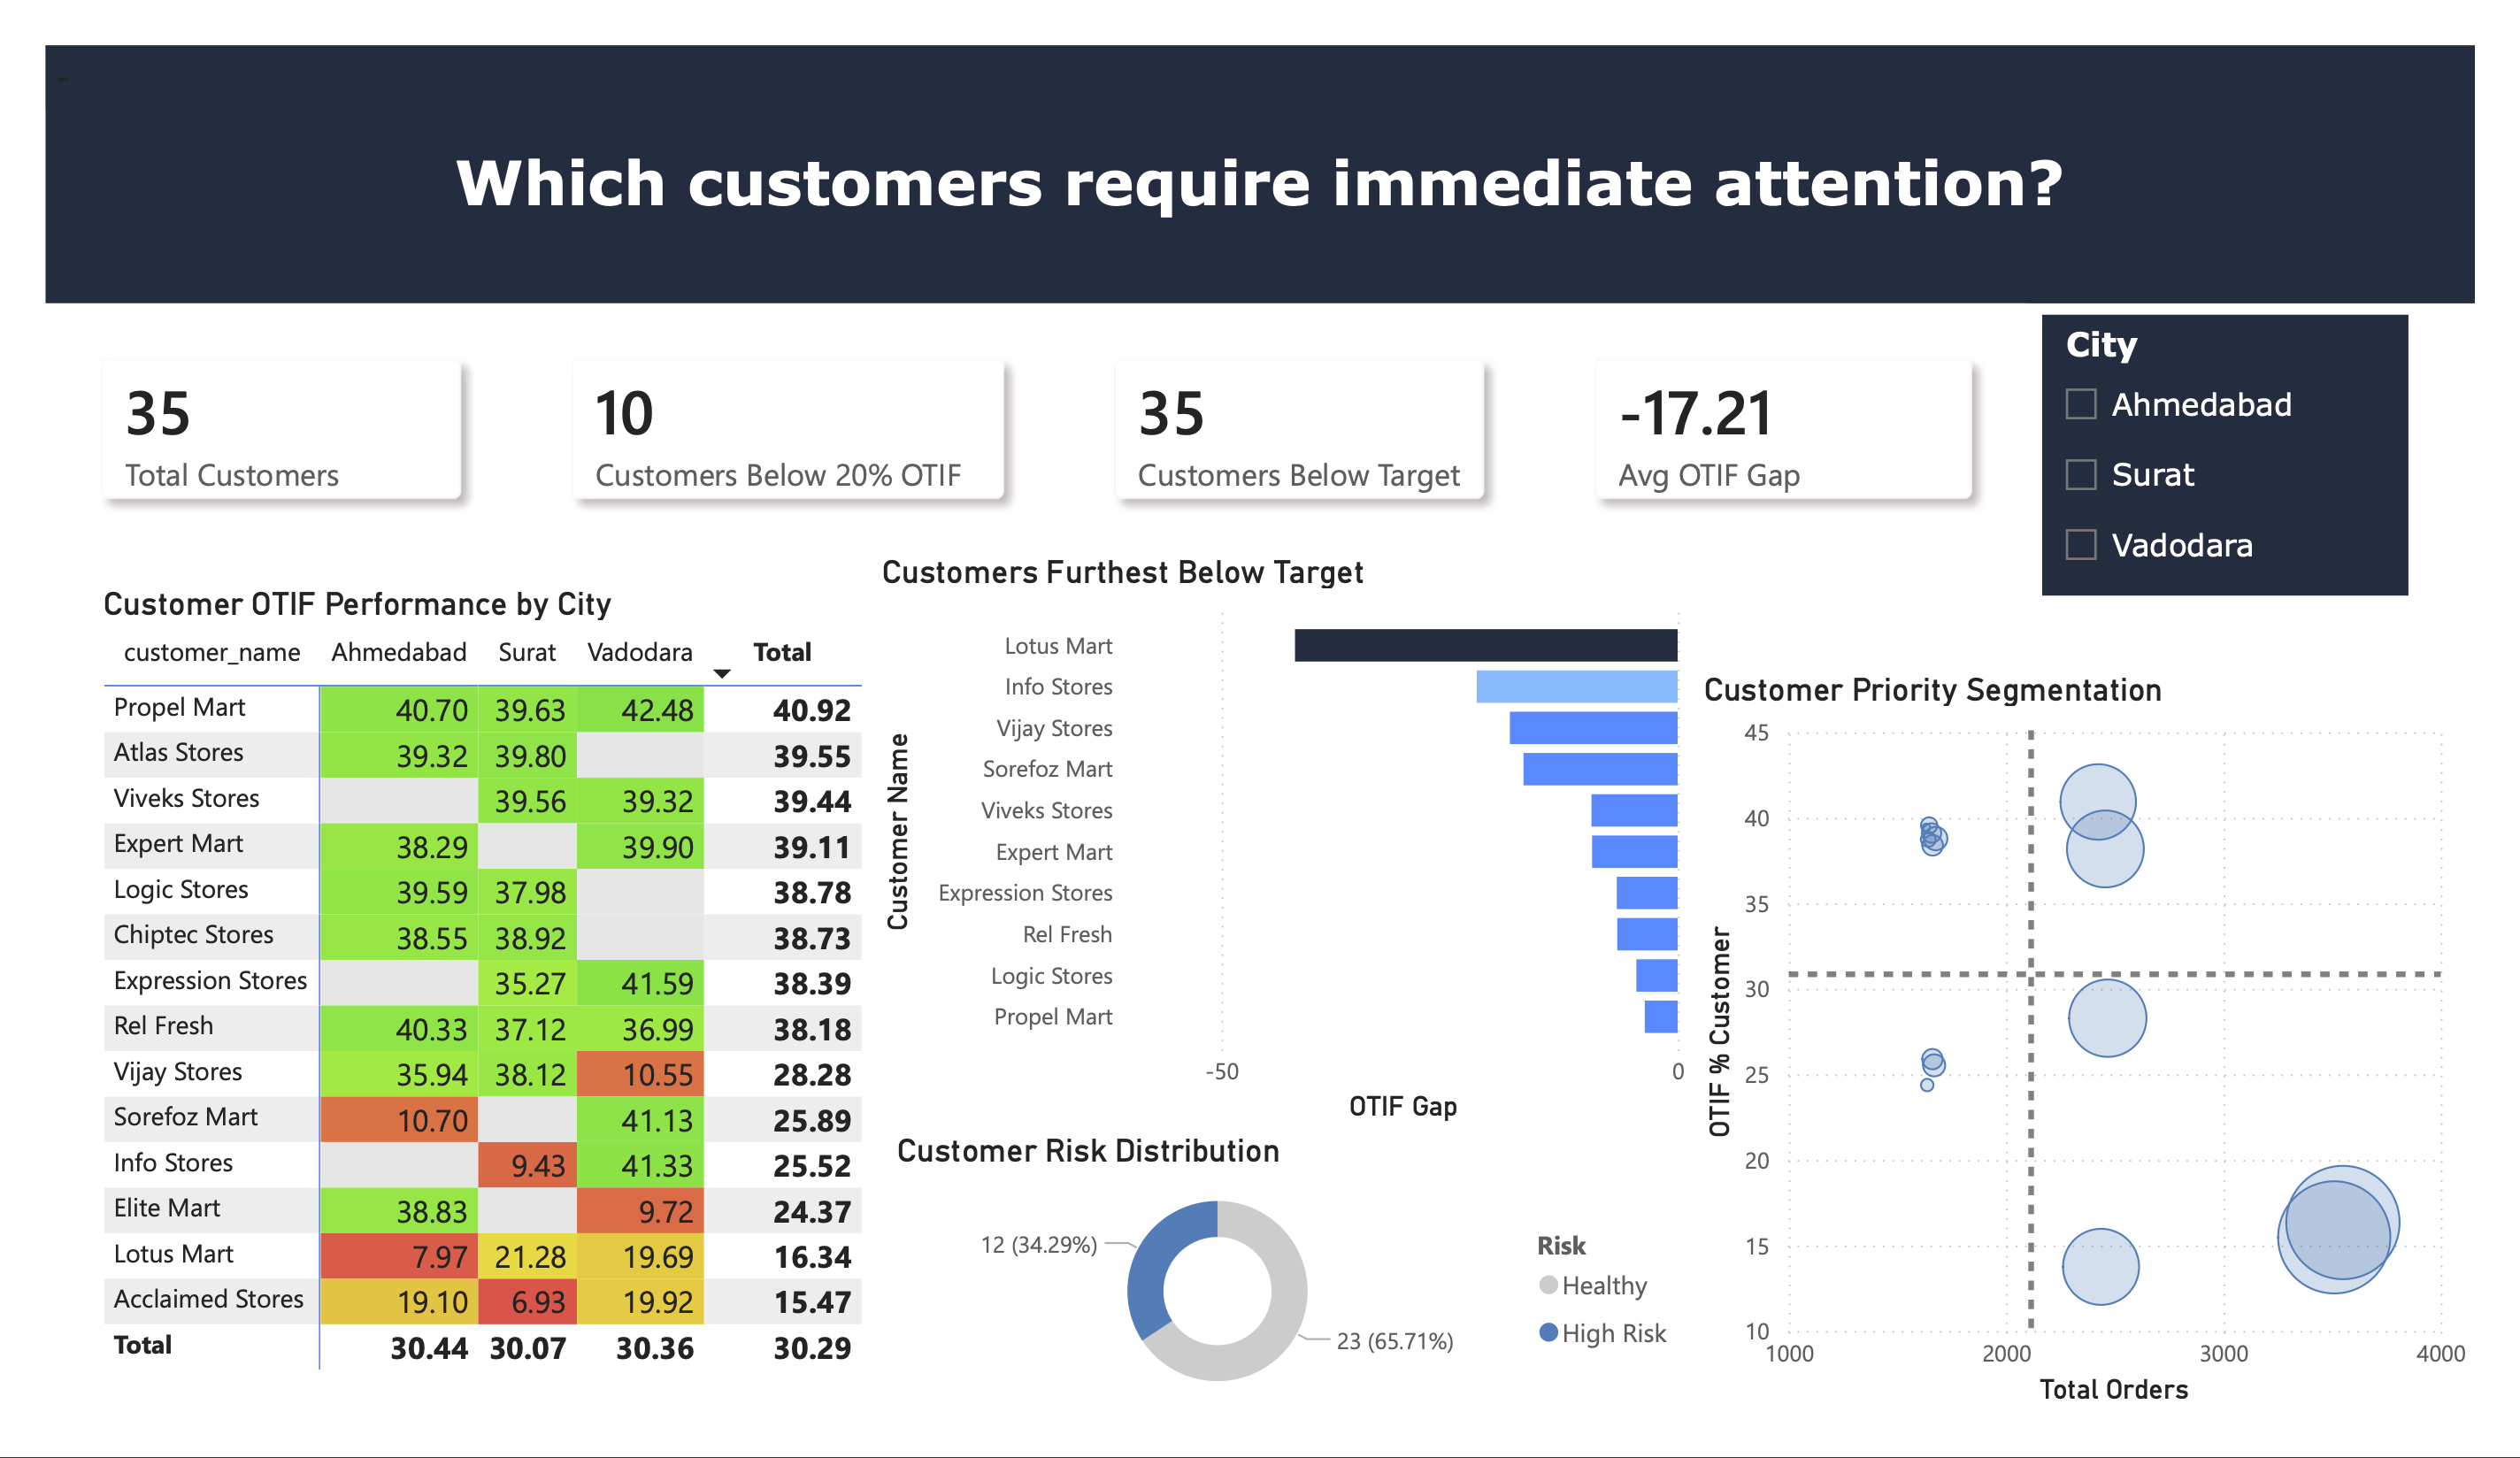

Layout of this report page (visuals, bound fields, positions):
{"tool":"powerbi","page":{"name":"Customer Risk Analysis","canvas":[1280,720],"ordinal":1},"visuals":[{"type":"textbox","title":"-","box":[0,0,1280,136.1],"z":0},{"type":"cardVisual","fields":{"Data":["fact_orders_aggregate.Customers Critical Risk"]},"box":[0,136,255.7,131.5],"z":1000},{"type":"cardVisual","fields":{"Data":["fact_orders_aggregate.Customers Below Target"]},"box":[255.7,136,254.2,131.5],"z":2000},{"type":"cardVisual","fields":{"Data":["fact_orders_aggregate.Avg OTIF Gap"]},"box":[509.9,136,255.7,131.5],"z":3000},{"type":"pivotTable","fields":{"Rows":["dim_customers.customer_name"],"Columns":["dim_customers.city"],"Values":["fact_orders_aggregate.OTIF %"]},"box":[25.1,267.5,410.9,452.3],"z":4000},{"type":"barChart","fields":{"Category":["dim_customers.customer_name"],"Y":["fact_orders_aggregate.OTIF Gap"]},"box":[436,267.5,433.1,285.3],"z":5000},{"type":"scatterChart","title":"Customer Priority Segmentation","fields":{"X":["fact_orders_aggregate.Total Orders"],"Y":["fact_orders_aggregate.OTIF %"],"Category":["dim_customers.customer_name"],"Size":["fact_orders_aggregate.Total Orders"]},"box":[869.1,301.5,410.9,391.7],"z":6000},{"type":"slicer","fields":{"Values":["dim_customers.city"]},"box":[1052.4,141.9,192.1,147.8],"z":7000},{"type":"donutChart","fields":{"Y":["CountNonNull(dim_customers.customer_id)"],"Category":["fact_orders_aggregate.Risk Category"]},"box":[436,553,433,167],"z":8000}]}

Visuals, with their boxes in screenshot pixels (x1, y1, x2, y2), scaled from the page's 1280x720 canvas onto the 2520x1458 screenshot:
"-" textbox: (x1=0, y1=0, x2=2519, y2=276)
cardVisual - fact_orders_aggregate.Customers Critical Risk: (x1=0, y1=275, x2=503, y2=541)
cardVisual - fact_orders_aggregate.Customers Below Target: (x1=503, y1=275, x2=1004, y2=541)
cardVisual - fact_orders_aggregate.Avg OTIF Gap: (x1=1004, y1=275, x2=1507, y2=541)
pivotTable - dim_customers.customer_name x dim_customers.city: (x1=50, y1=541, x2=858, y2=1457)
barChart - dim_customers.customer_name x fact_orders_aggregate.OTIF Gap: (x1=858, y1=541, x2=1711, y2=1119)
"Customer Priority Segmentation" scatterChart: (x1=1711, y1=610, x2=2519, y2=1404)
slicer - dim_customers.city: (x1=2072, y1=288, x2=2450, y2=587)
donutChart - CountNonNull(dim_customers.customer_id) x fact_orders_aggregate.Risk Category: (x1=858, y1=1120, x2=1711, y2=1457)
